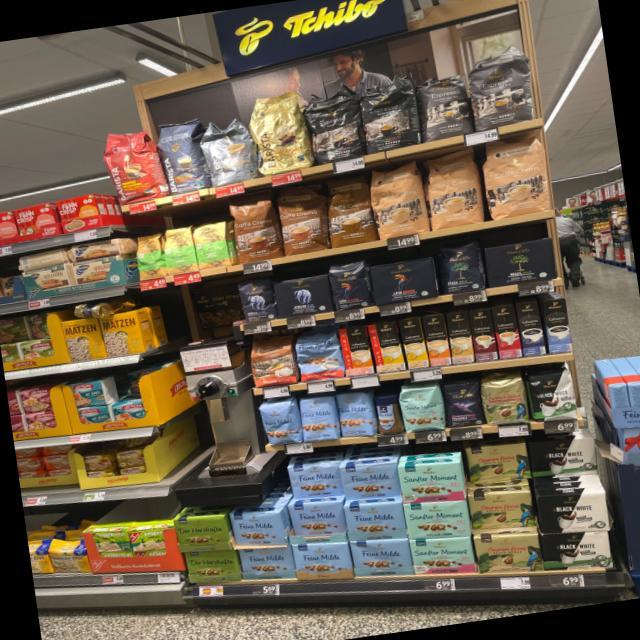AB Bohne: (235, 275, 278, 325)
AB Gemahlen: (272, 273, 334, 320)
Athiopien Bohne: (132, 232, 168, 280)
Athiopien Gemahlen: (191, 220, 233, 271), (162, 225, 198, 275)
BM Bohne: (437, 238, 488, 295)
BM Gemahlen: (484, 238, 558, 289)
BW Bohne: (526, 365, 580, 426)
BW Gemahlen: (536, 491, 610, 535), (539, 530, 614, 572), (528, 436, 599, 478)
Barista CB: (247, 90, 314, 176)
Barista CC: (198, 115, 260, 189)
Barista Espresso: (154, 118, 209, 196)
Barista Kolumbien: (100, 126, 166, 206)
C Fino Bohne: (442, 379, 486, 430)
CC Mild: (480, 135, 552, 220), (422, 150, 486, 230), (368, 162, 430, 240)
CC Vollmundig: (248, 332, 298, 389)
CC Vollmundig 36 Pads: (274, 182, 330, 256), (322, 177, 378, 248), (226, 193, 282, 264)
Colombia BB Bohne: (480, 374, 530, 428)
Colombia BB Gemahlen: (468, 491, 538, 534), (474, 533, 545, 575), (465, 442, 532, 483)
Espresso Kraftig: (357, 74, 422, 154), (302, 84, 364, 164)
Espresso M Art: (462, 43, 540, 130), (414, 72, 475, 142)
FM 36 Pads: (293, 329, 345, 384)
FM Bohne: (334, 388, 378, 441), (258, 398, 302, 448), (298, 394, 340, 444)
FM Gemahlen: (349, 532, 415, 584), (343, 498, 408, 546), (287, 497, 348, 548), (291, 536, 353, 586), (339, 458, 402, 504), (228, 506, 288, 552), (238, 541, 296, 585), (286, 460, 344, 502)
FM Instant: (373, 392, 406, 438)
Herzhatfe Mundig: (172, 511, 232, 557), (184, 546, 242, 588)
LG Bohne: (327, 258, 375, 312)
LG Gemahlen: (368, 256, 441, 306)
SM Bohne: (399, 382, 447, 436)
SM Gemahlen: (397, 461, 467, 504), (409, 535, 477, 575), (404, 499, 471, 539)
Simo CCMild: (367, 321, 406, 372)
Simo CCMild bigpack: (397, 317, 430, 368)
Simo CCVollmundig: (339, 325, 374, 377)
Simo CCVollmundig bigpack: (421, 314, 452, 366)
Simo Decaff: (446, 310, 475, 364)
Simo Es Brazil: (492, 304, 523, 360)
Simo Es Caramel: (468, 308, 499, 362)
Simo Es Kraft: (516, 300, 547, 357)
Simo Es Vanilla: (542, 297, 573, 354)
